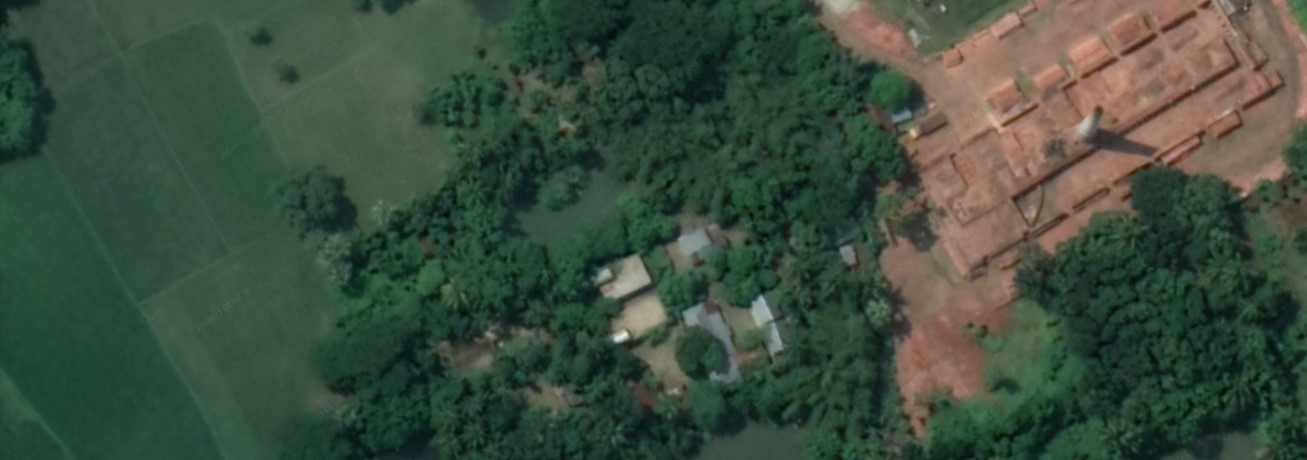kiln: (954, 21, 1277, 160)
